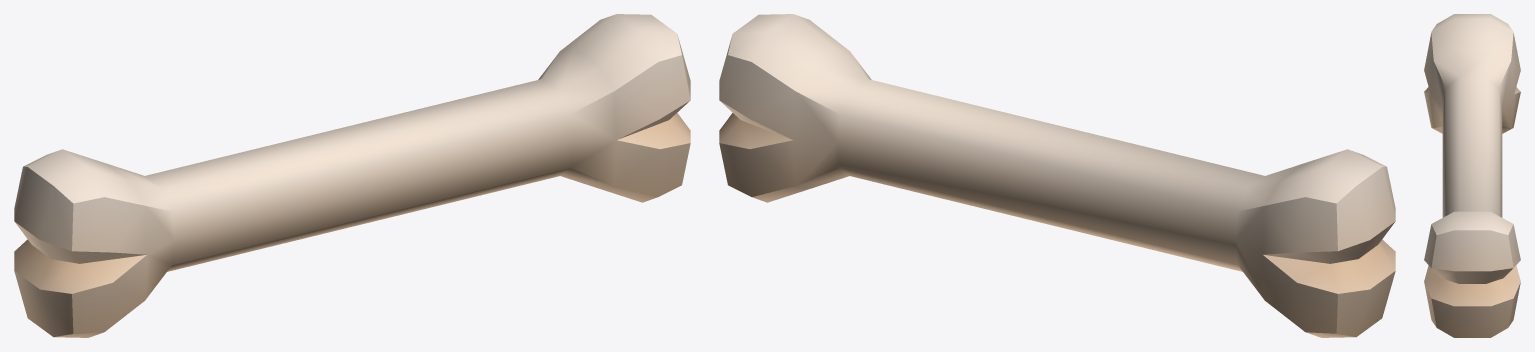
Rendered from bone_C.glb.
3 views of the same model, side by side, from view 1: azimuth 30°, elevation 25°; view 2: azimuth 150°, elevation 25°; view 3: azimuth 270°, elevation 25° (orthographic). The views are drawn at different scales.
Parts seen in each view (by area): view 1: bone_C; view 2: bone_C; view 3: bone_C.
Boxes of the visible parts, x1,y1,x2,y2 form: bone_C: (14, 14, 690, 337); bone_C: (719, 14, 1395, 337); bone_C: (1424, 14, 1520, 337).
Bounding box in the file's own units: 1.11 × 0.2761 × 0.2007.
Materials: 1 (1 with a texture image).
